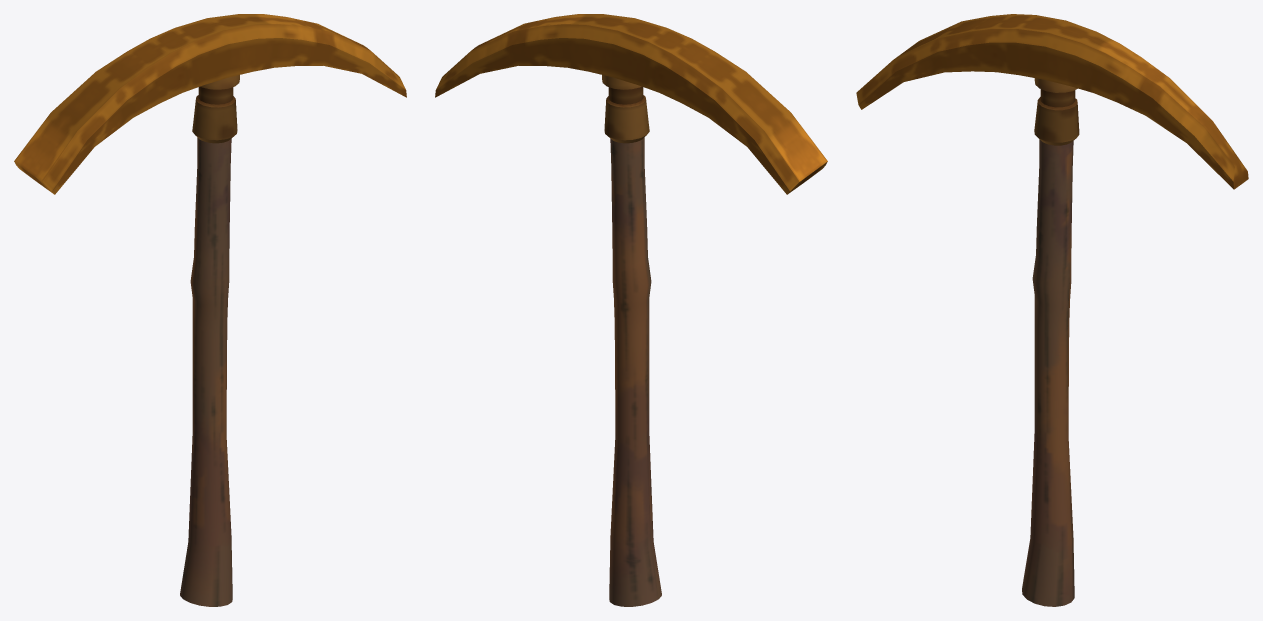
Rendered from Pickaxe_Bronze.gltf.
3 views of the same model, side by side, from view 1: azimuth 30°, elevation 25°; view 2: azimuth 150°, elevation 25°; view 3: azimuth 330°, elevation 25° (orthographic).
Parts seen in each view (by area): view 1: Pickaxe_Bronze; view 2: Pickaxe_Bronze; view 3: Pickaxe_Bronze.
Part boxes in pixels (x1=…): Pickaxe_Bronze: x1=14, y1=14, x2=406, y2=606; Pickaxe_Bronze: x1=435, y1=14, x2=827, y2=606; Pickaxe_Bronze: x1=856, y1=14, x2=1248, y2=606.
Bounding box in the file's own units: 0.8129 × 1.2 × 0.1357.
1 material, 1 textured.
